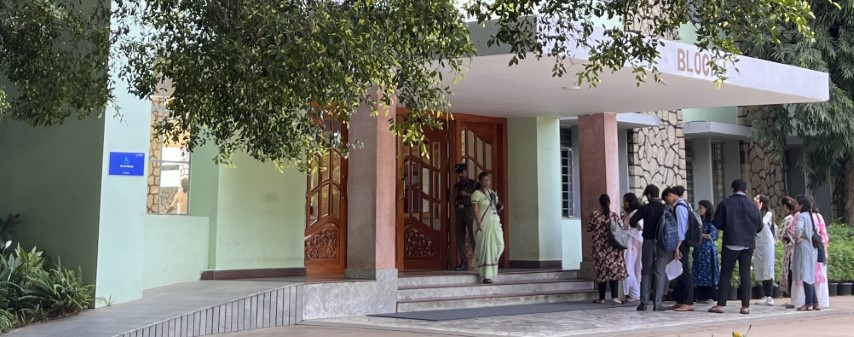Block 1: (81, 1, 842, 336)
